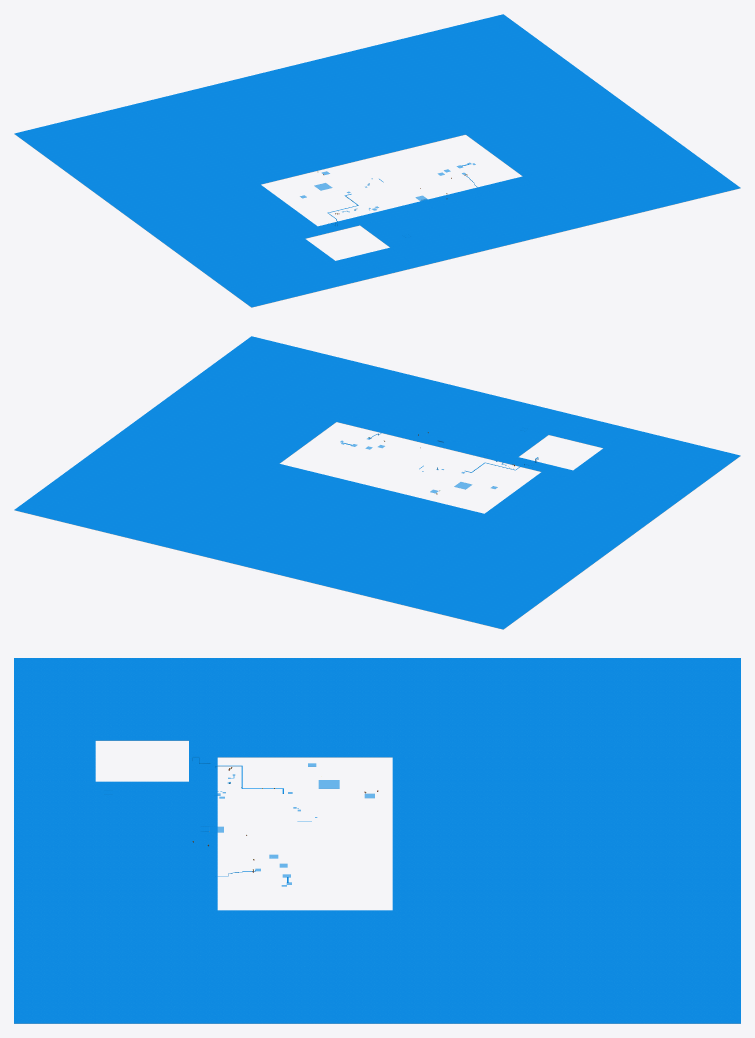
Rendered from WorldExternalNoColliders2Combined2.fbx.
3 views of the same model, one above another, from view 1: azimuth 30°, elevation 25°; view 2: azimuth 150°, elevation 25°; view 3: azimuth 270°, elevation 25° (orthographic). The views are drawn at different scales.
Visible parts, largest first — view 1: Sea, DieZoneFall; view 2: Sea, DieZoneFall; view 3: Sea, DieZoneFall.
Boxes of the visible parts, bbox=[...] form: Sea: bbox=[14, 14, 740, 307]; DieZoneFall: bbox=[14, 134, 739, 307]; Sea: bbox=[14, 336, 740, 629]; DieZoneFall: bbox=[15, 422, 740, 629]; Sea: bbox=[14, 658, 740, 1023]; DieZoneFall: bbox=[14, 740, 740, 1023].
Size of what is drawn, in the model's own units: 3247 by 38.82 by 2730.
